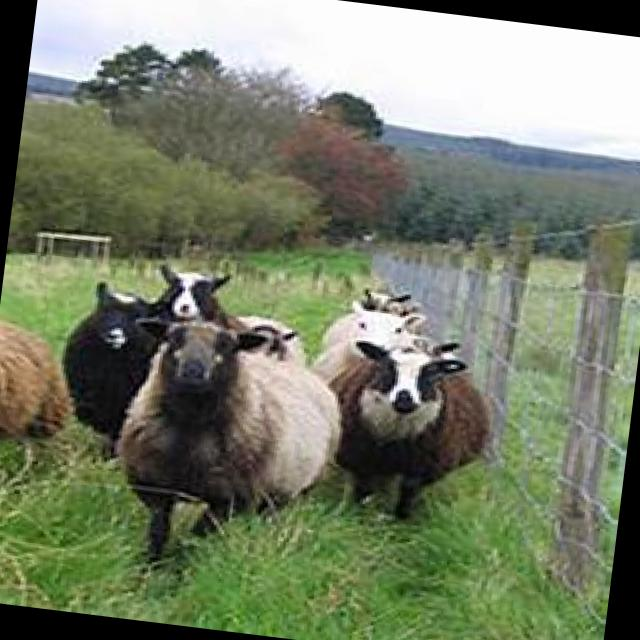animal: (107, 310, 350, 576), (306, 342, 505, 532), (58, 282, 168, 452)
